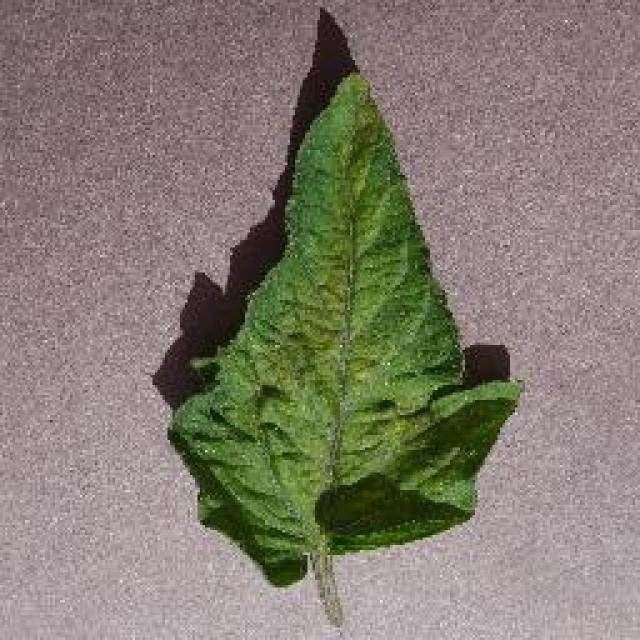Tomato mosaic virus leaf: (159, 66, 521, 596)
